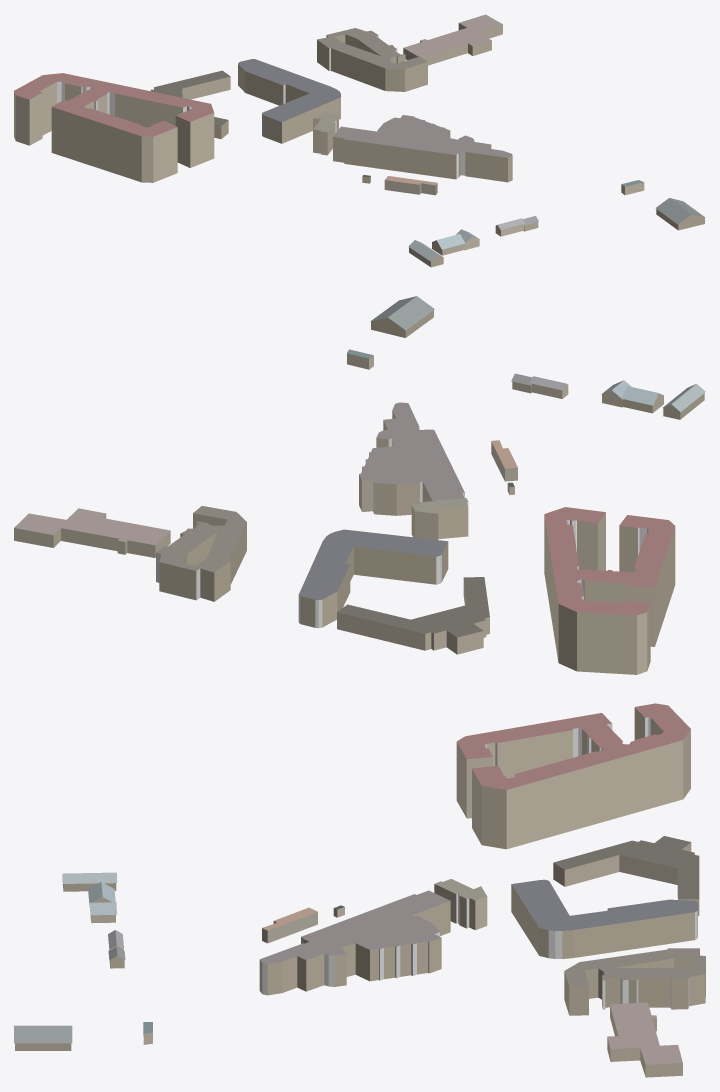
3 renders of one model, top to bottom at view 1: azimuth 30°, elevation 25°; view 2: azimuth 150°, elevation 25°; view 3: azimuth 270°, elevation 25°, orthographic. The views are drawn at different scales.
Parts seen in each view (by area): view 1: tuile; view 2: tuile; view 3: tuile.
Part boxes in pixels (left/top/right/bottom): tuile: left=14, top=14, right=704, bottom=267; tuile: left=14, top=296, right=705, bottom=674; tuile: left=14, top=703, right=705, bottom=1077.
Size of the model in its own units: 271 by 31.7 by 261.
